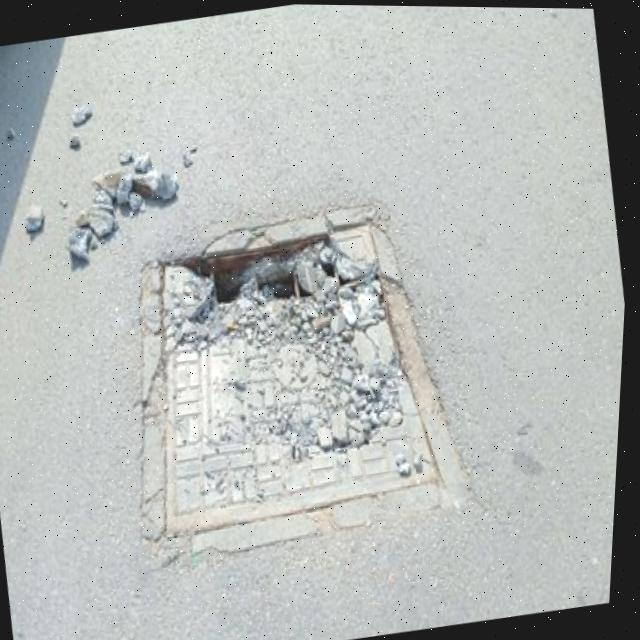manhole: (105, 191, 475, 552)
